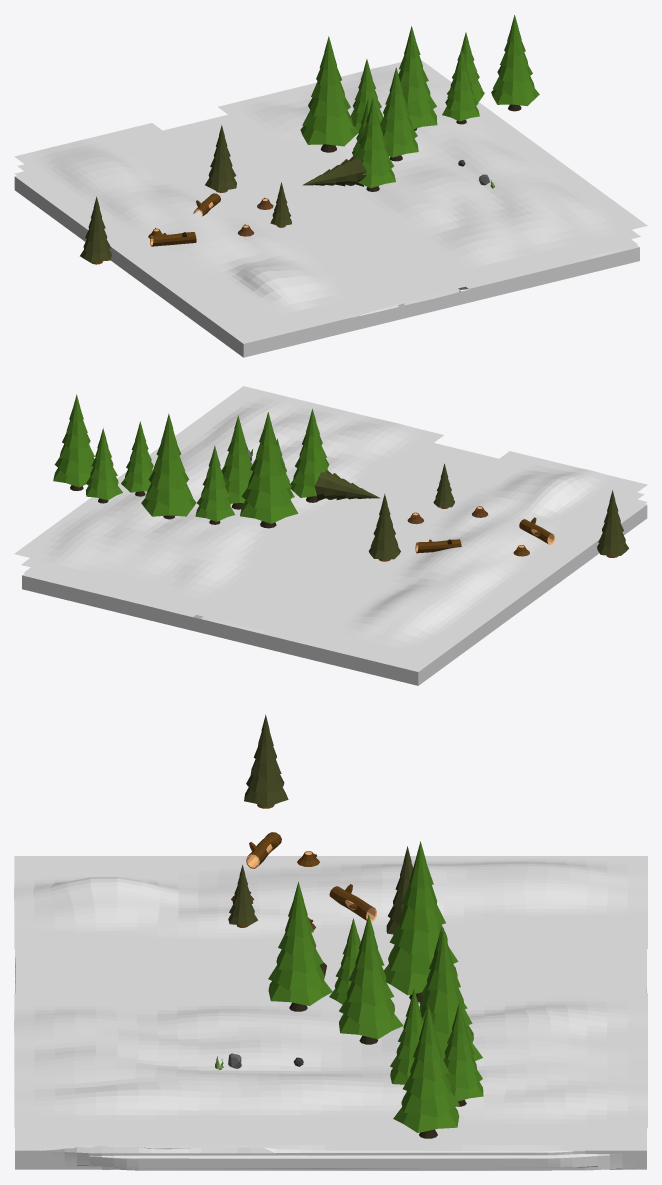
File: brov3.fbx
3 views of the same model, one above another, from view 1: azimuth 30°, elevation 25°; view 2: azimuth 150°, elevation 25°; view 3: azimuth 270°, elevation 25° (orthographic). The views are drawn at different scales.
Parts seen in each view (by area): view 1: land g, land b, water, Cube, water shadow, g tree.003, g tree.007, g tree.004, g tree.001, g tree, g tree.005, tree (+6 smaller); view 2: land g, land b, water, Cube, water shadow, g tree.003, g tree.004, g tree.007, g tree, g tree.001, g tree.002, g tree.006 (+7 smaller); view 3: land g, land b, water, Cube, water shadow, g tree.003, g tree.007, g tree.001, g tree, g tree.004, g tree.006, tree.001 (+6 smaller).
Boxes of the visible parts, bbox=[...] form: land g: bbox=[218, 60, 647, 274]; land b: bbox=[14, 123, 381, 324]; water: bbox=[17, 114, 640, 333]; Cube: bbox=[14, 176, 639, 357]; water shadow: bbox=[14, 171, 637, 340]; g tree.003: bbox=[300, 36, 358, 146]; g tree.007: bbox=[491, 15, 539, 106]; g tree.004: bbox=[398, 26, 437, 128]; g tree.001: bbox=[380, 67, 418, 157]; g tree: bbox=[355, 98, 395, 188]; g tree.005: bbox=[442, 49, 479, 121]; tree: bbox=[205, 125, 236, 191]; land g: bbox=[14, 386, 443, 602]; land b: bbox=[281, 451, 647, 652]; water: bbox=[21, 443, 644, 661]; Cube: bbox=[22, 504, 647, 685]; water shadow: bbox=[24, 499, 647, 669]; g tree.003: bbox=[240, 412, 298, 523]; g tree.004: bbox=[141, 413, 196, 516]; g tree.007: bbox=[53, 394, 94, 487]; g tree: bbox=[290, 408, 329, 497]; g tree.001: bbox=[221, 415, 252, 503]; g tree.002: bbox=[195, 445, 235, 521]; g tree.006: bbox=[86, 428, 122, 500]; land g: bbox=[14, 993, 647, 1128]; land b: bbox=[14, 856, 647, 948]; water: bbox=[15, 949, 646, 1137]; Cube: bbox=[15, 949, 646, 1170]; water shadow: bbox=[15, 1138, 646, 1145]; g tree.003: bbox=[384, 841, 458, 995]; g tree.007: bbox=[393, 1005, 459, 1132]; g tree.001: bbox=[339, 914, 403, 1039]; g tree: bbox=[268, 881, 332, 1005]; g tree.004: bbox=[419, 927, 482, 1060]; g tree.006: bbox=[443, 1003, 483, 1101]; tree.001: bbox=[244, 714, 288, 807].
Bounding box in the file's own units: 55197 × 16290 × 42911.
